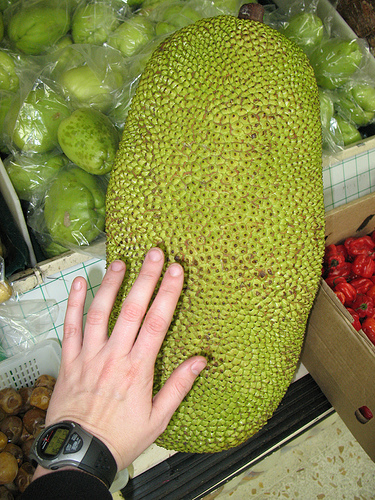jackfruit: (105, 16, 328, 457)
